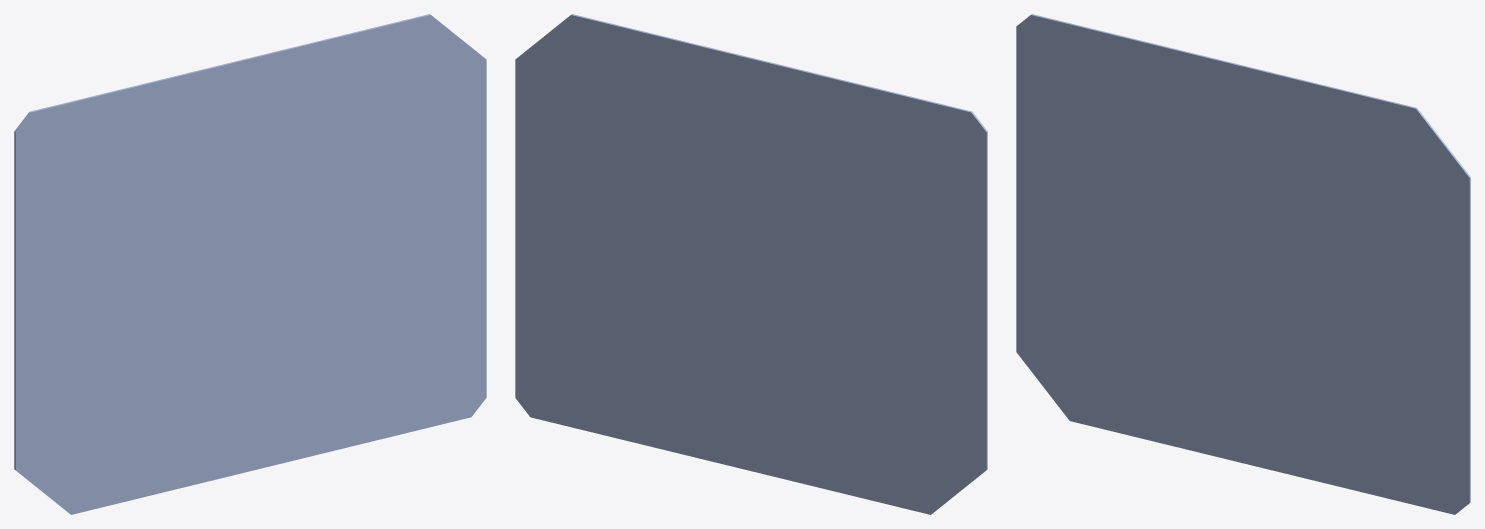
File: Ecran_Holo_LP.fbx
The picture shows the model from 3 angles, left to right: view 1: azimuth 30°, elevation 25°; view 2: azimuth 150°, elevation 25°; view 3: azimuth 330°, elevation 25°; orthographic projection. The views are drawn at different scales.
Parts seen in each view (by area): view 1: Ecrans_Verre_low; view 2: Ecrans_Verre_low; view 3: Ecrans_Verre_low.
Part boxes in pixels (bbox=[...]): Ecrans_Verre_low: bbox=[14, 14, 486, 514]; Ecrans_Verre_low: bbox=[515, 14, 987, 514]; Ecrans_Verre_low: bbox=[1016, 14, 1470, 514].
Size of the model in its own units: 1.8 by 1.51 by 0.00873.
